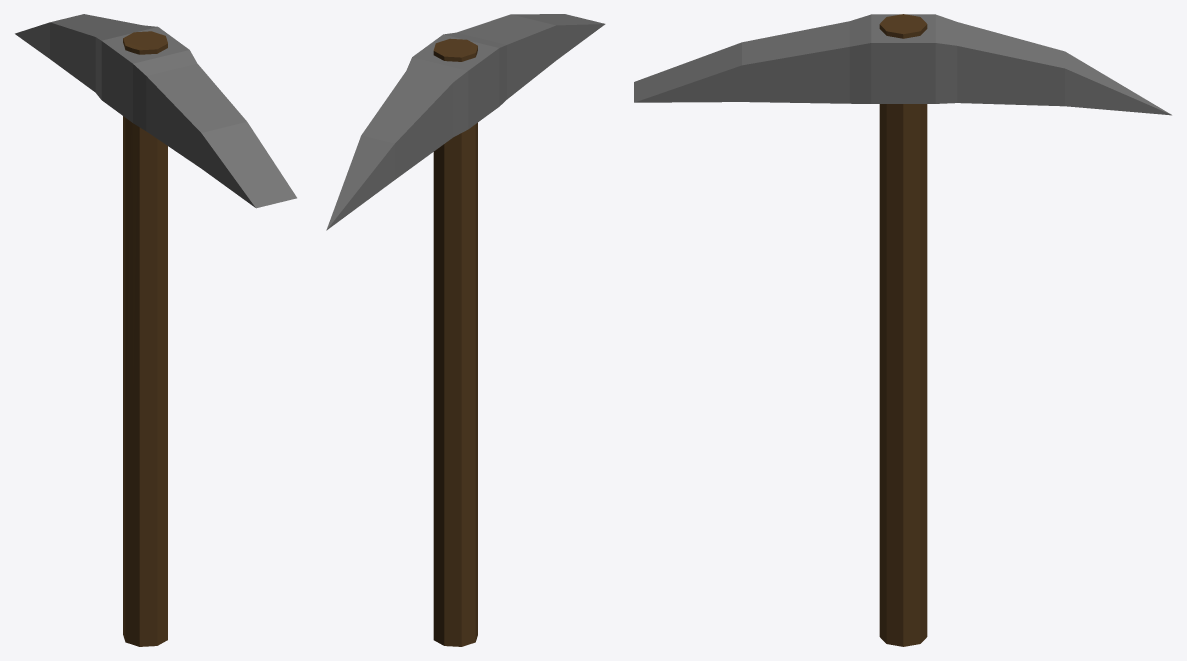
File: Pickaxe.fbx
3 renders of one model, left to right at view 1: azimuth 30°, elevation 25°; view 2: azimuth 150°, elevation 25°; view 3: azimuth 270°, elevation 25°, orthographic. The views are drawn at different scales.
Visible parts, largest first — view 1: Axe; view 2: Axe; view 3: Axe.
Part boxes in pixels (x1,y1,x2,y2): Axe: (15,14,296,646); Axe: (326,14,605,646); Axe: (634,14,1171,646).
Size of the model in its own units: 5 by 50.19 by 40.
